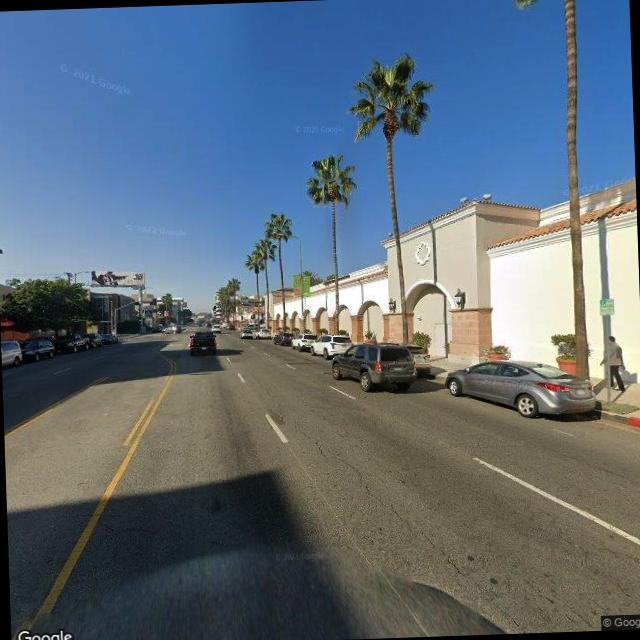pothole: (273, 397, 467, 582)
